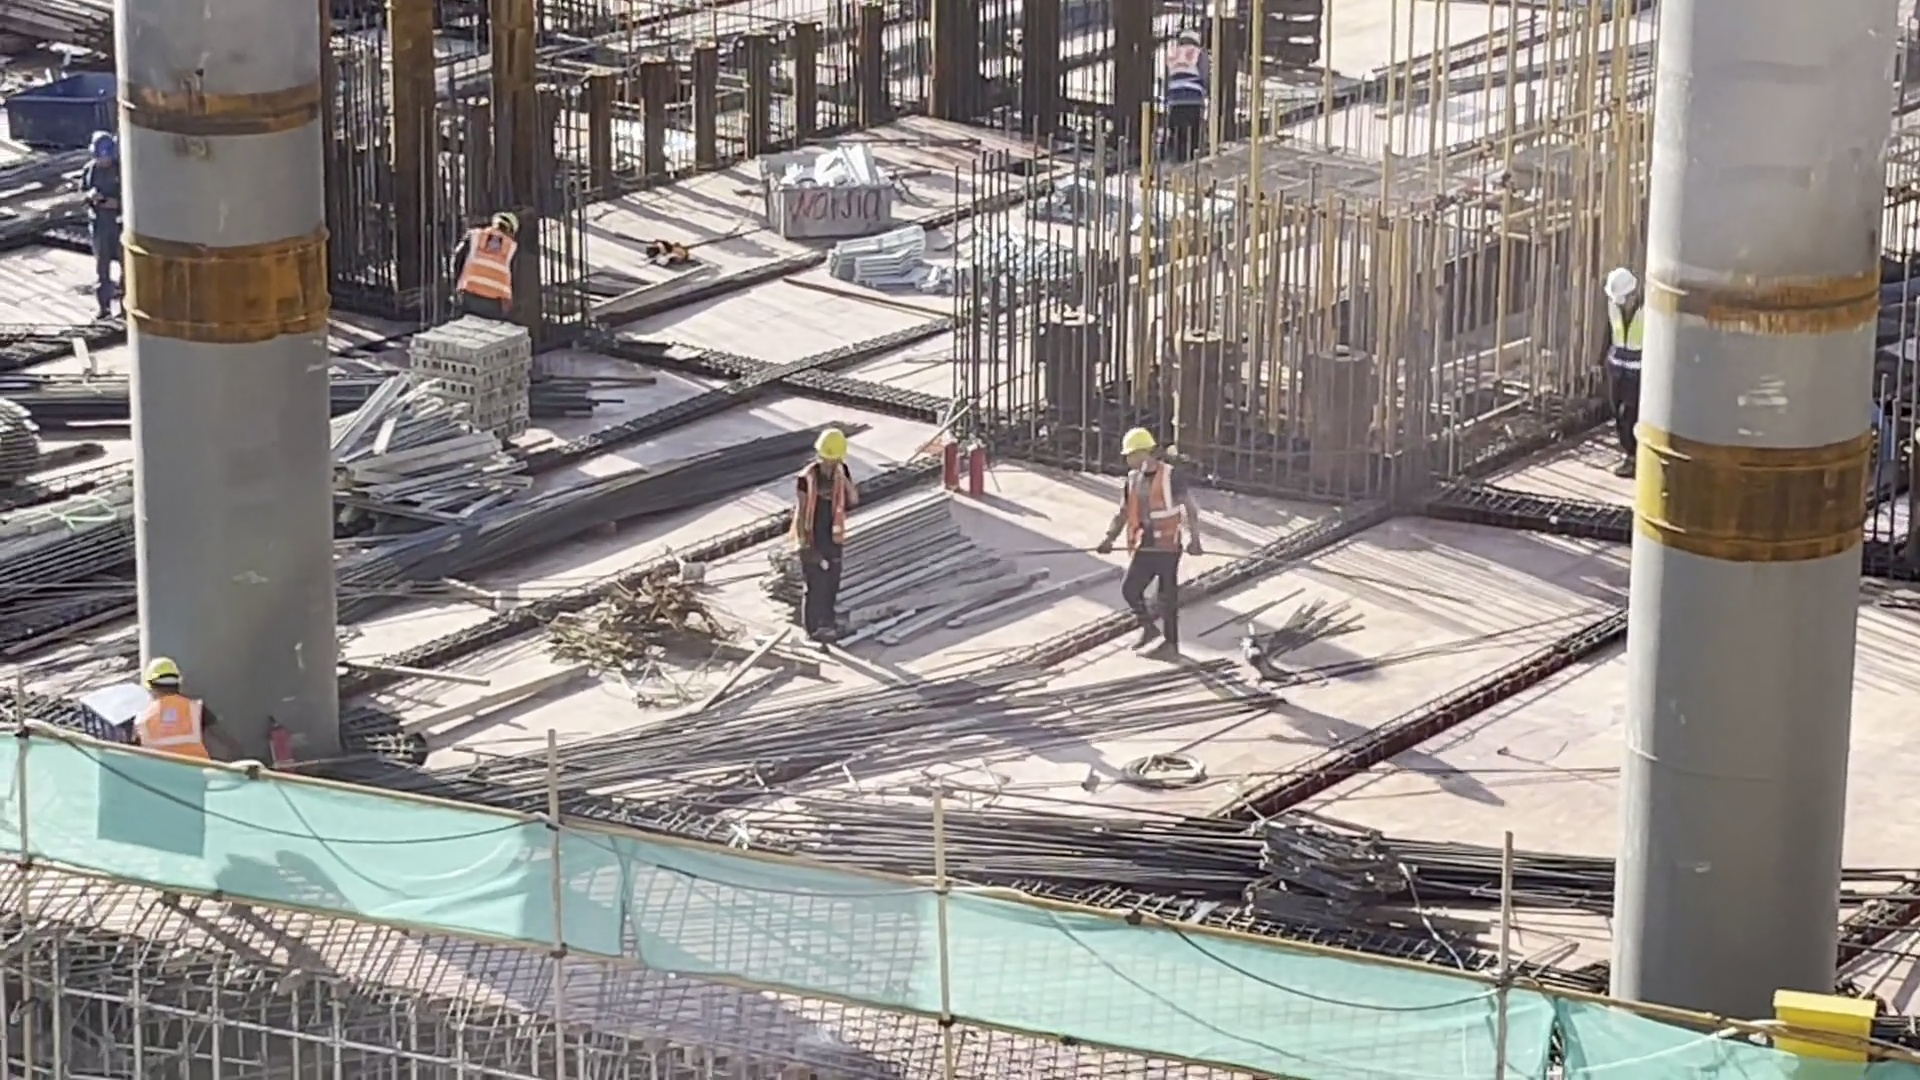ebox: (1771, 982, 1871, 1080)
helmet: (809, 420, 850, 463), (134, 650, 182, 686), (1122, 427, 1159, 463), (1604, 274, 1641, 305), (487, 192, 516, 224), (1170, 20, 1200, 48), (86, 129, 118, 156)
hopper: (738, 134, 914, 248), (6, 60, 133, 138)
person: (781, 416, 858, 652), (1107, 431, 1177, 653), (1595, 254, 1659, 487), (73, 122, 141, 331), (447, 187, 534, 350), (106, 645, 222, 761)
vest: (1146, 1, 1226, 170), (1116, 467, 1181, 557), (124, 698, 208, 767), (457, 226, 512, 307), (796, 470, 850, 544), (82, 163, 130, 231), (1156, 46, 1204, 100)
wood: (292, 385, 507, 535), (803, 491, 986, 645)
